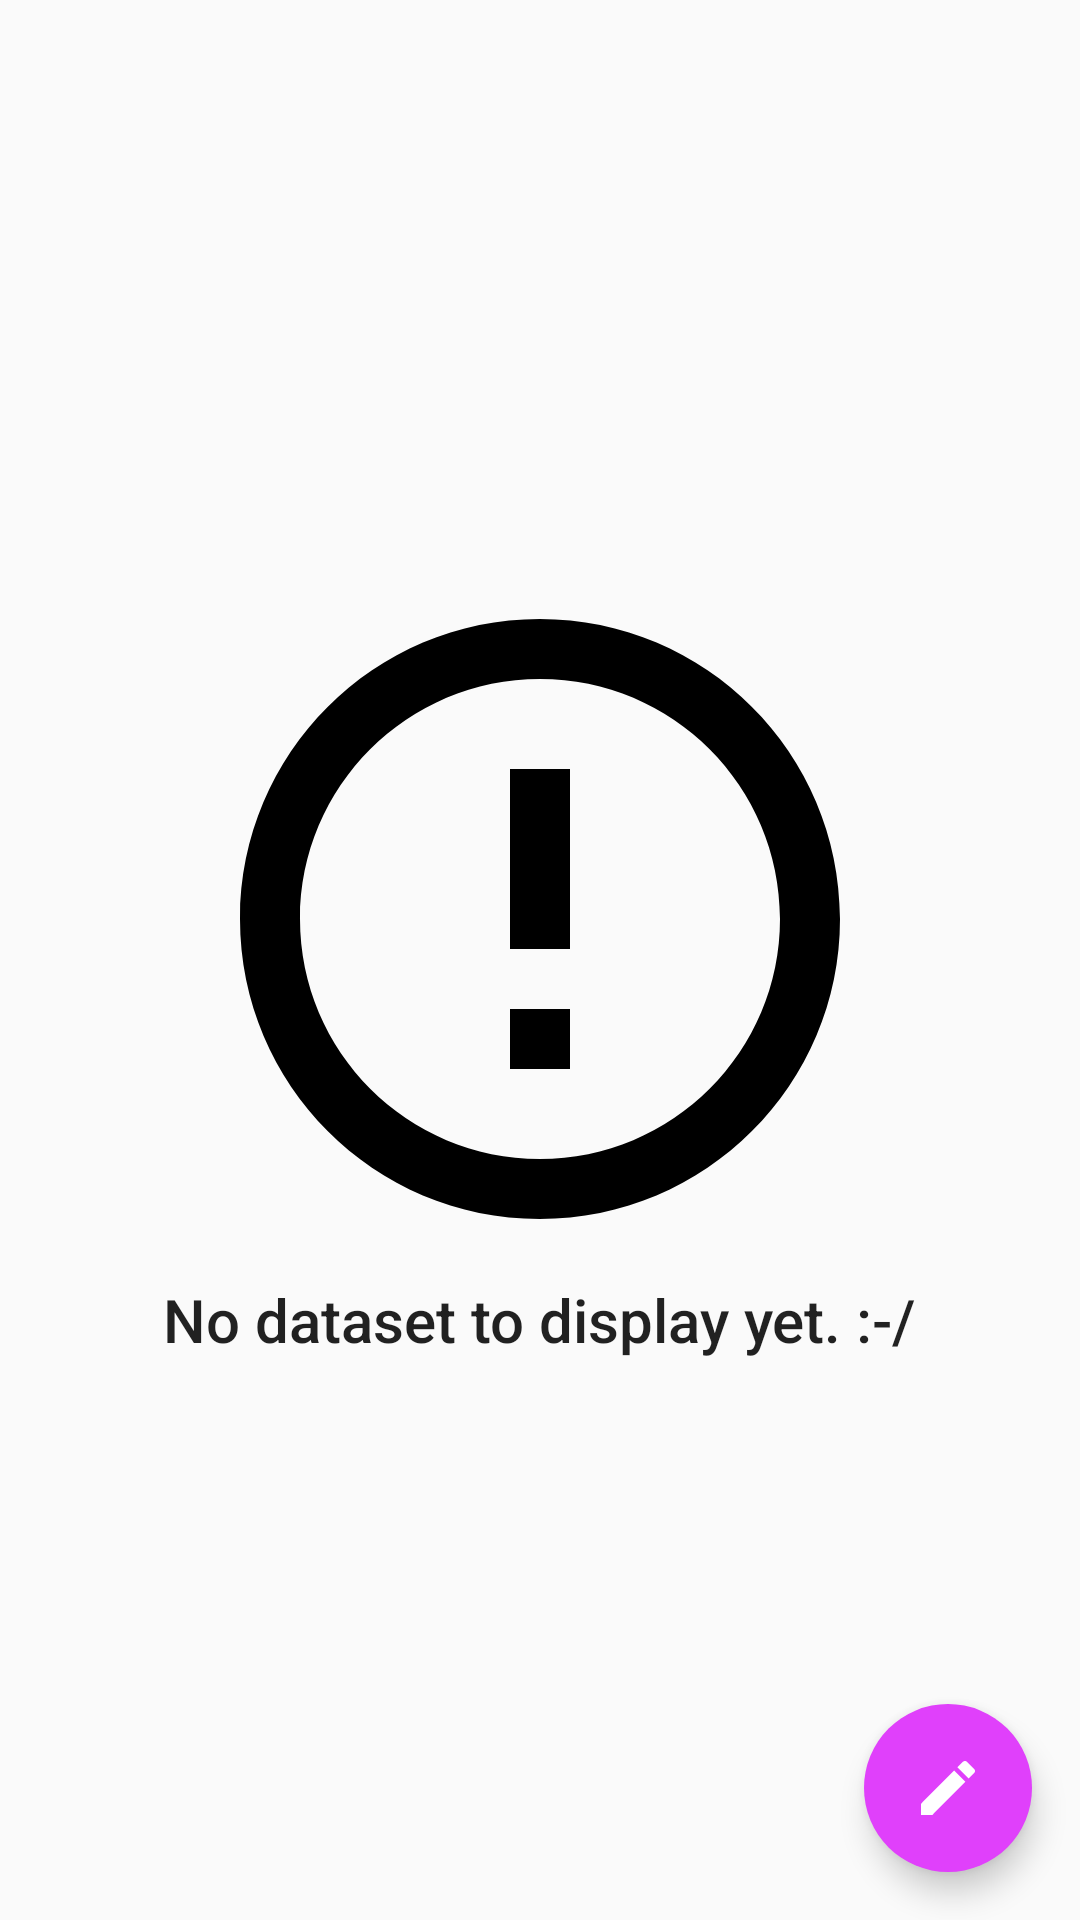

Icons on this 1080×1920 Android screen, each with the point to tap as (x=x, y=y):
create: (x=948, y=1788)
